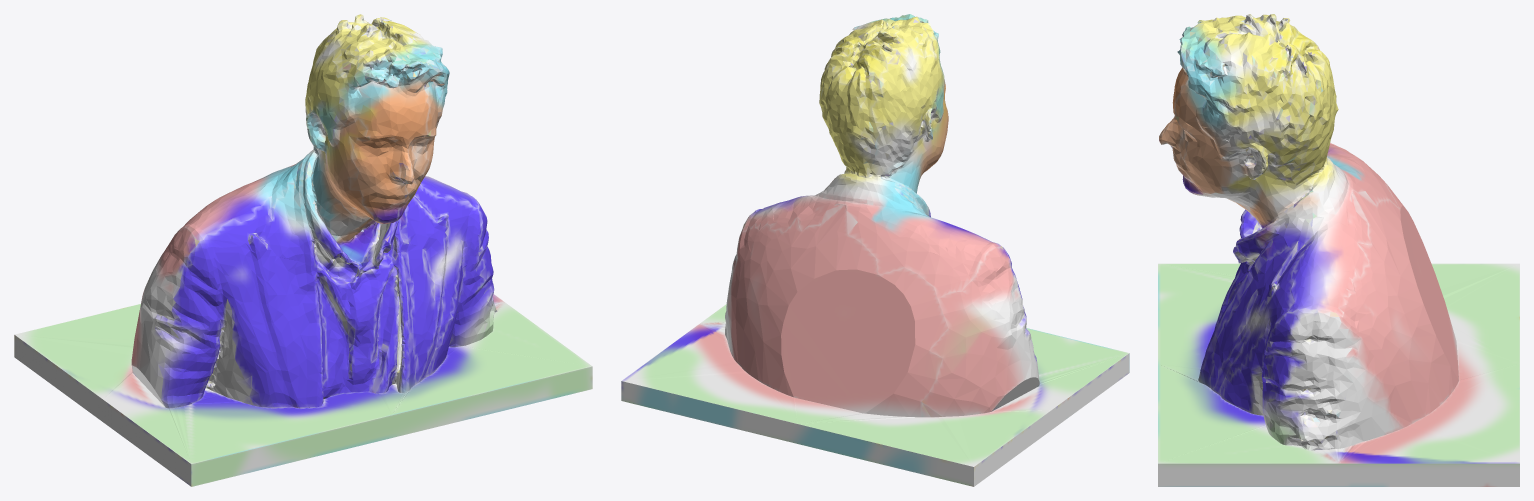
The model's file is aapje.obj.
3 renders of one model, left to right at view 1: azimuth 30°, elevation 25°; view 2: azimuth 150°, elevation 25°; view 3: azimuth 270°, elevation 25°, orthographic. The views are drawn at different scales.
Visible parts, largest first — view 1: JasperFinal; view 2: JasperFinal; view 3: JasperFinal.
Part boxes in pixels (box(x1,y1,x2,y2)): JasperFinal: box(14, 14, 592, 486); JasperFinal: box(621, 14, 1129, 486); JasperFinal: box(1158, 14, 1519, 486).
Bounding box in the file's own units: 39.57 × 35.43 × 30.26.
